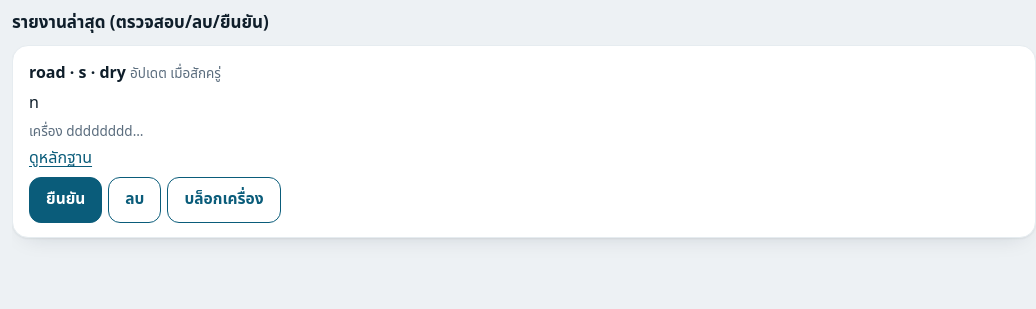
shows an error when the storage removal fails
Click the button "ลบ" at (135, 200), box [108, 177, 161, 223]
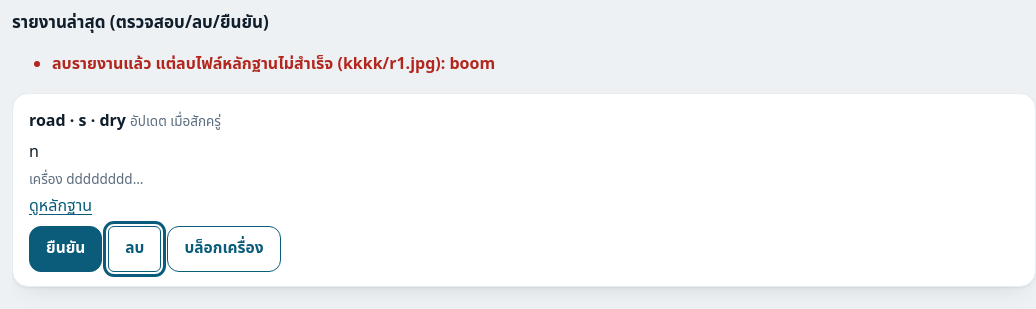
Expected: the message shows "ลบรายงานแล้ว แต่ลบไฟล์หลักฐานไม่สำเร็จ", [52, 52, 495, 76]
